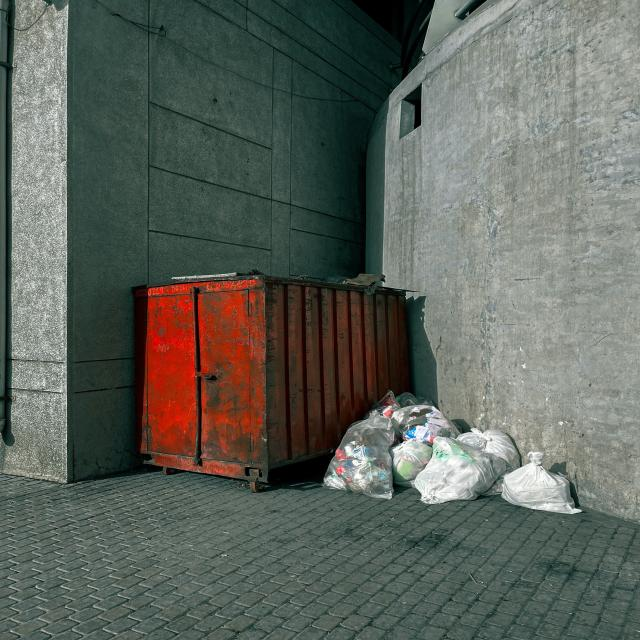trash: (366, 406, 548, 505)
